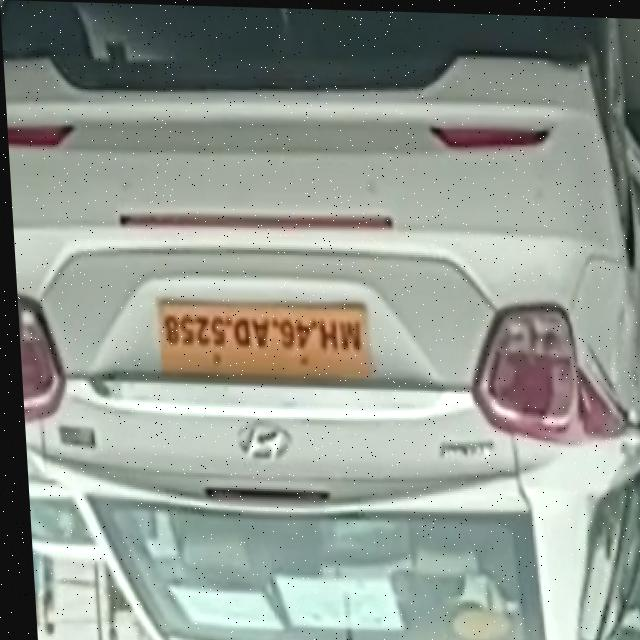plate: (136, 285, 380, 384)
